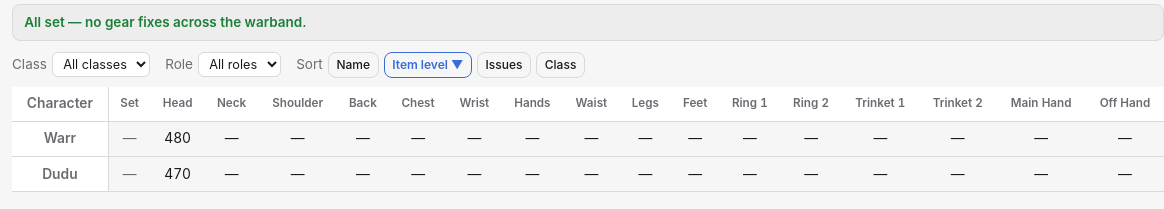
Test case: WarbandGearBoard › filters the rows by class
The image size is (1164, 209).
Expected: the column heading "Warr" is shown, [12,121,108,156]
Expected: the column heading "Dudu" is shown, [12,156,108,192]
Select "Druid" in the dropdown named "Filter by class": coordinates (101, 64) [52,52,150,77]
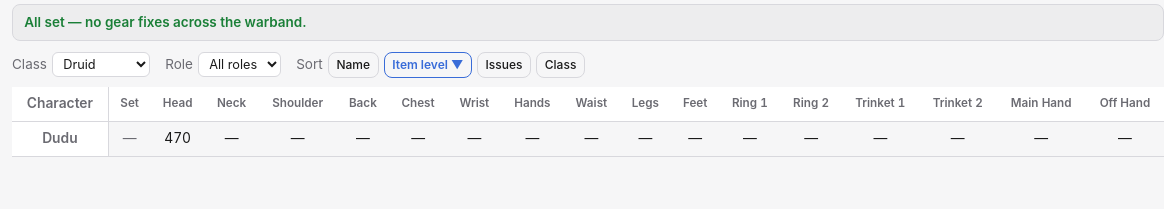
Expected: the column heading "Dudu" is shown, [12,121,108,156]
Now the column heading "Warr" is gone
